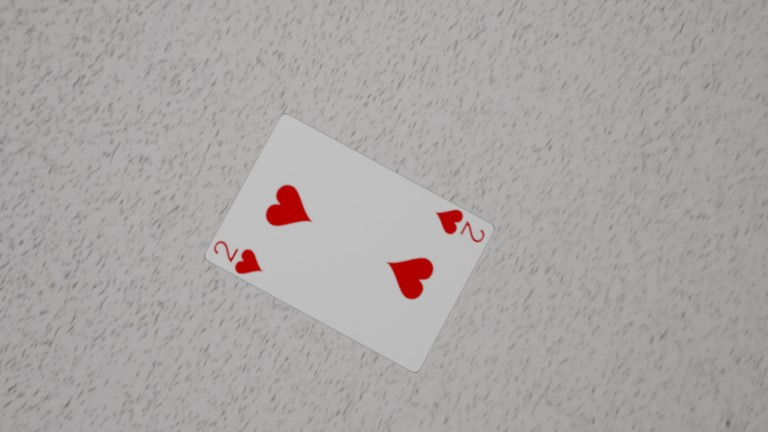2_of_hearts: (207, 231, 271, 285), (428, 199, 492, 253)
